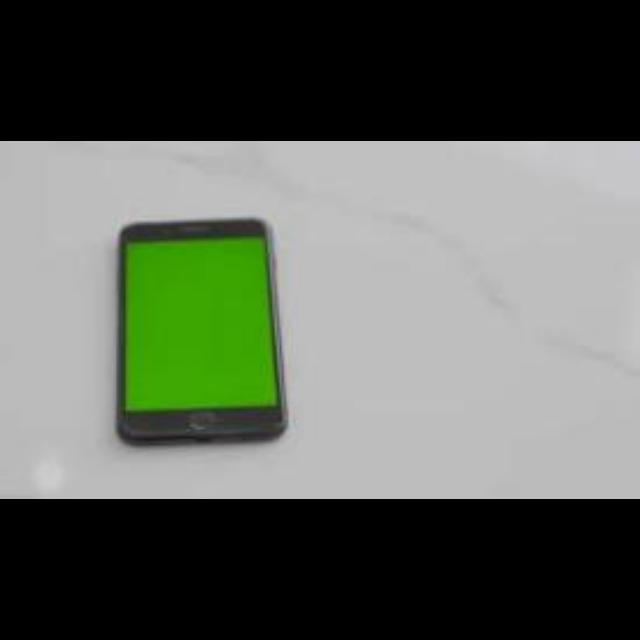PhoneUse: (116, 220, 288, 440)
